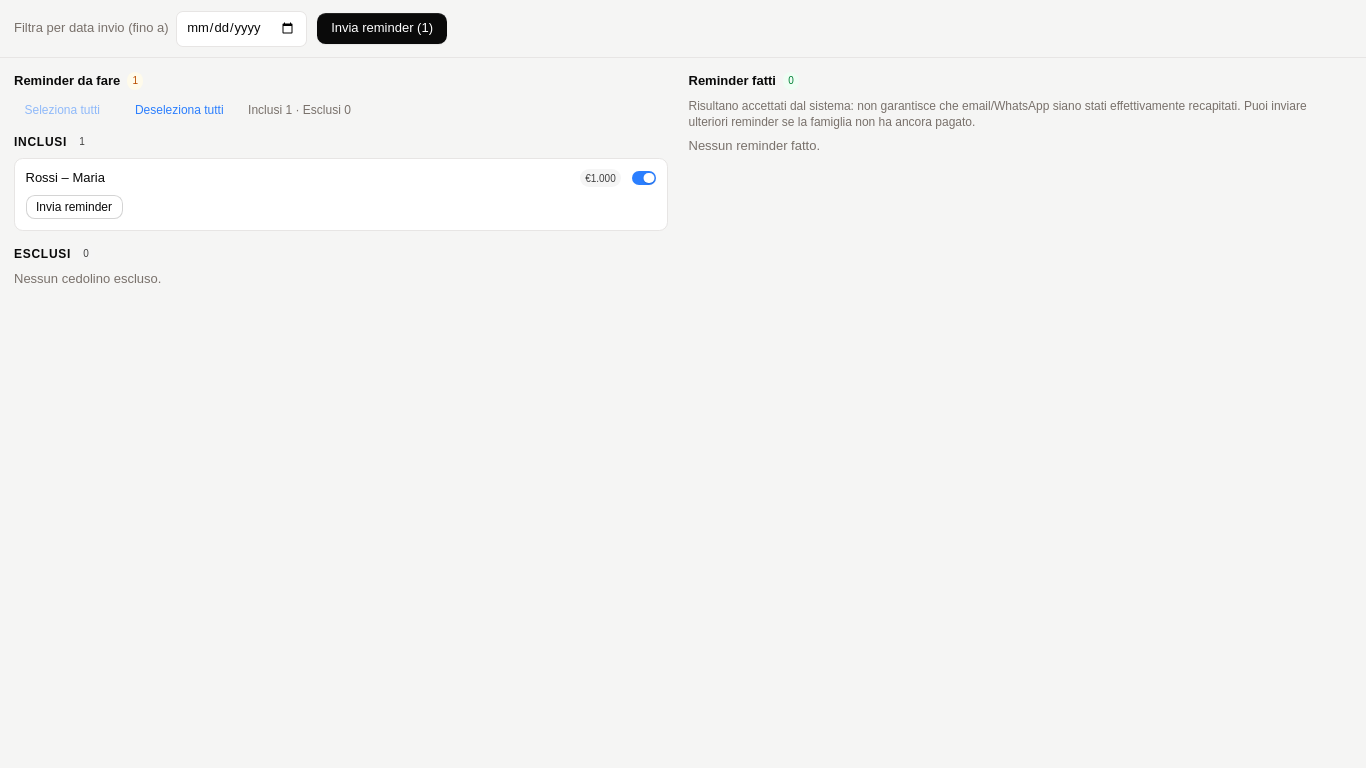
Test: CedoliniPagamentiView — reminder da fare/fatti + bulk (U6) › completato: mostra il riepilogo con i conteggi finali
What coordinates should you click on to do the following:
click the button with test id "cedolini-pagamenti-reminder-invia"
I would click on:
 (382, 29)
Its box is [317,13,447,44].
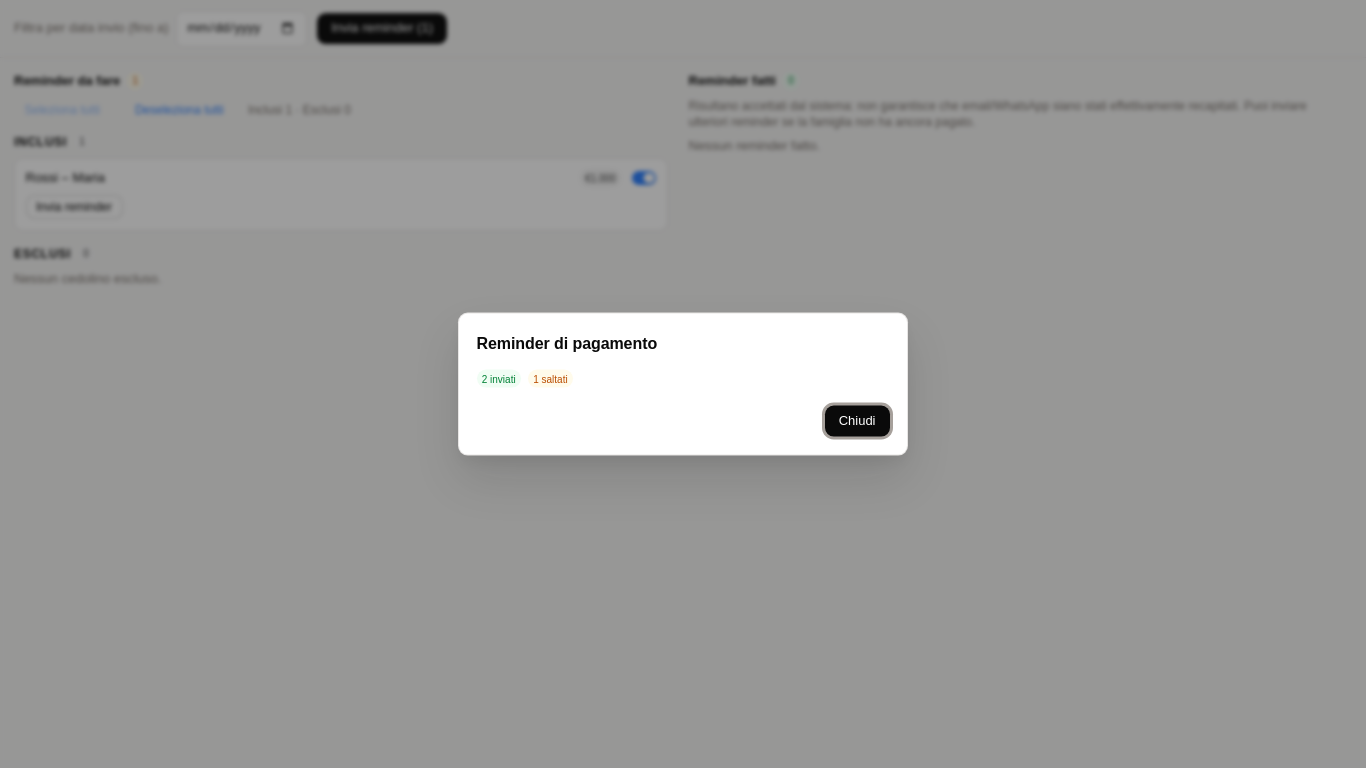
Check: the element with test id "cedolini-pagamenti-reminder-summary" shows "2 inviati", box [476,370,573,388]
Check: the element with test id "cedolini-pagamenti-reminder-summary" shows "1 saltati", box [476,370,573,388]
